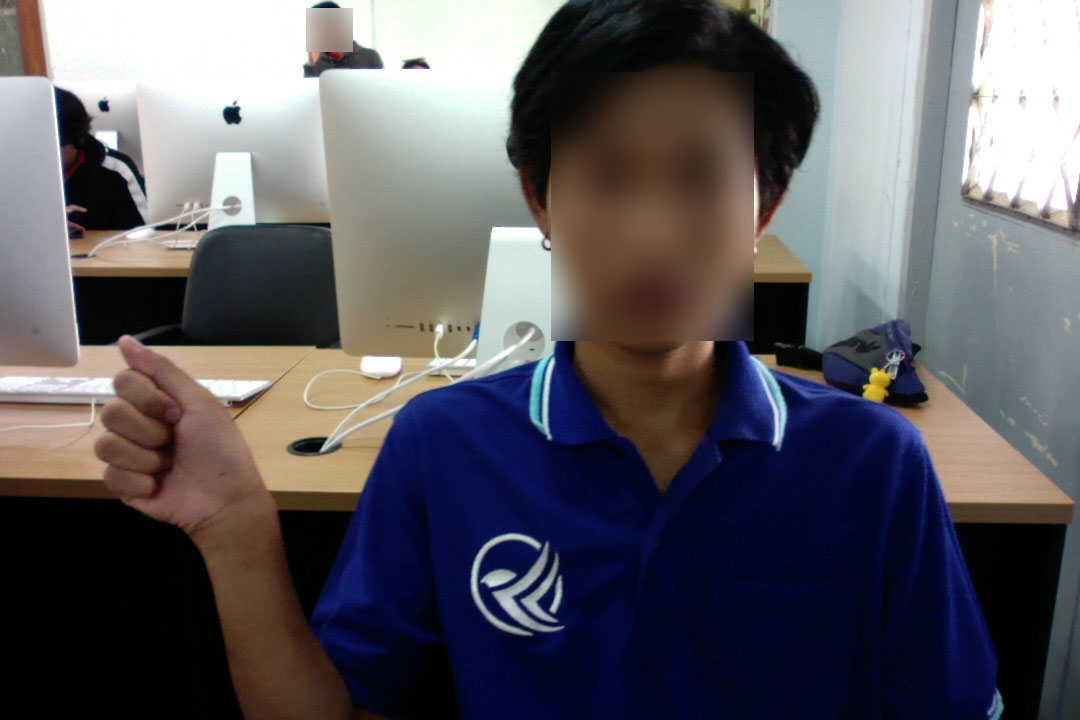or: (84, 326, 288, 555)
